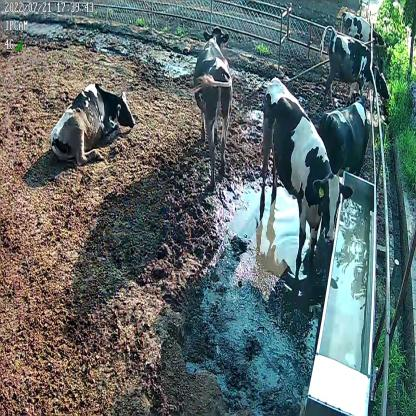cow: (259, 78, 355, 278), (49, 79, 136, 166), (192, 24, 236, 187), (318, 22, 392, 102), (314, 92, 372, 177), (340, 9, 386, 54)
